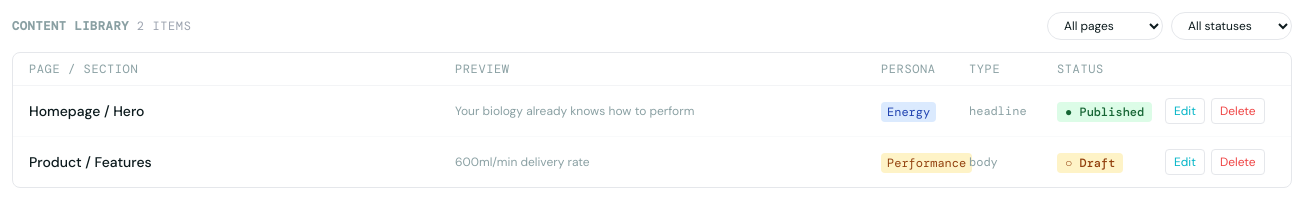
Test: ContentLibrary › filters items by page
The image size is (1304, 205).
Select "Homepage" in the dropdown named "filter by page": (1105, 26) top-left (1047, 12), bottom-right (1163, 40)
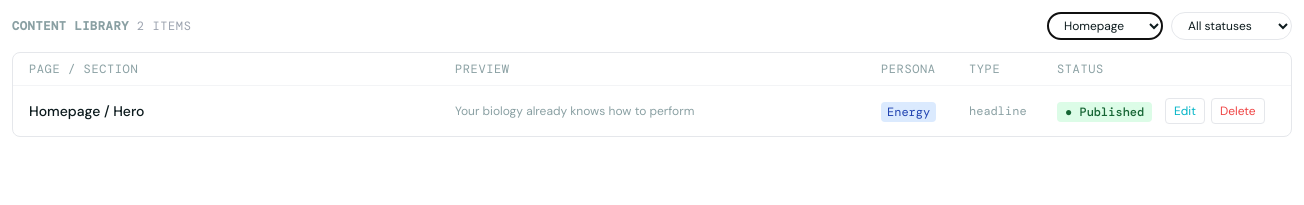
Expected: the text "Homepage / Hero" is shown, top-left (29, 102), bottom-right (144, 120)
Expected: the text "Product / Features" is gone
